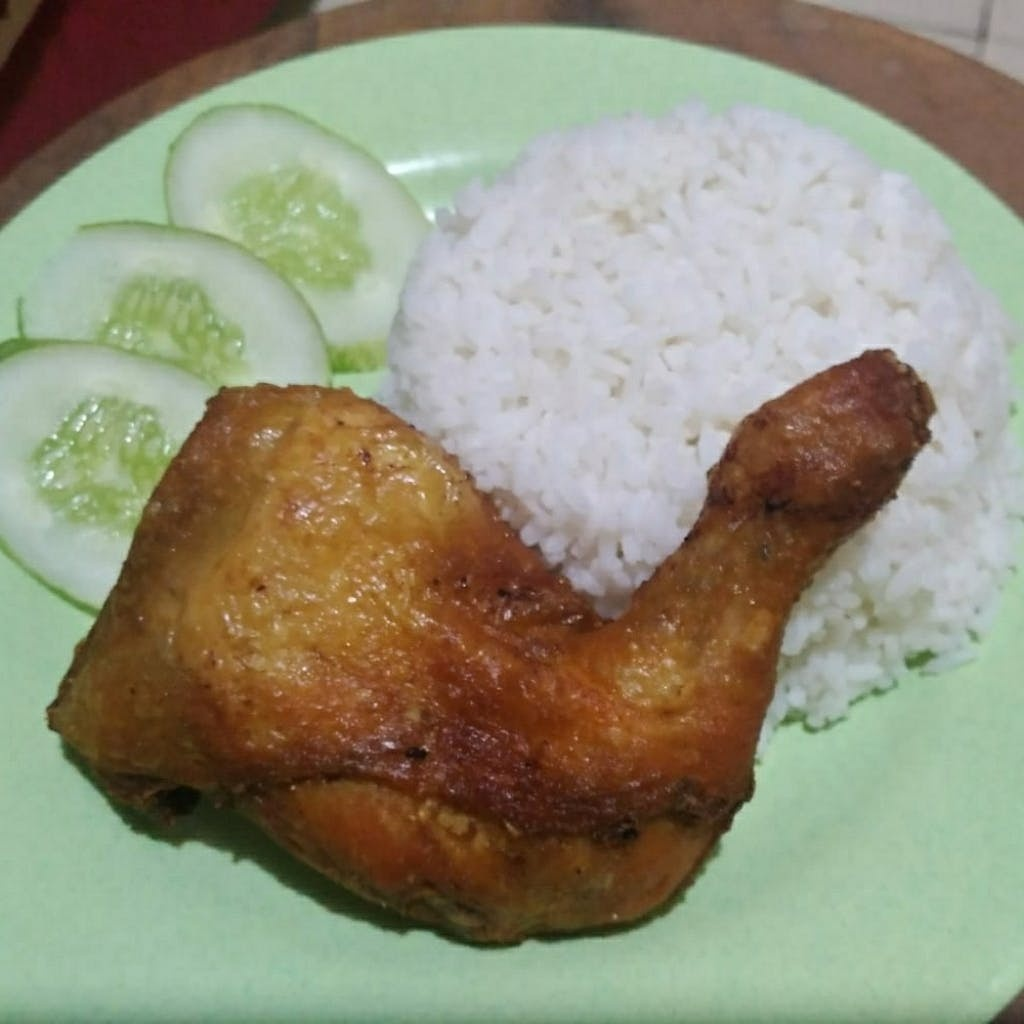ayam_goreng: (60, 346, 948, 933)
